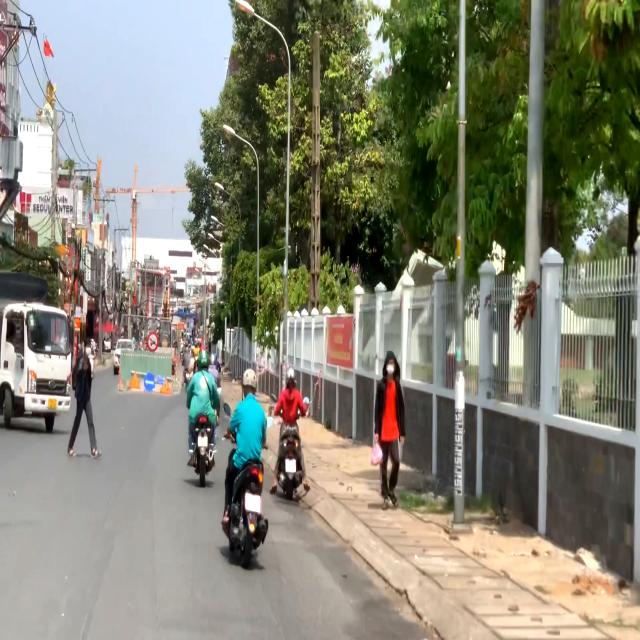P.103a: (147, 330, 159, 352)
R.301c: (144, 372, 155, 393)
W.203b: (129, 370, 141, 390)
W.227: (159, 376, 172, 395)
